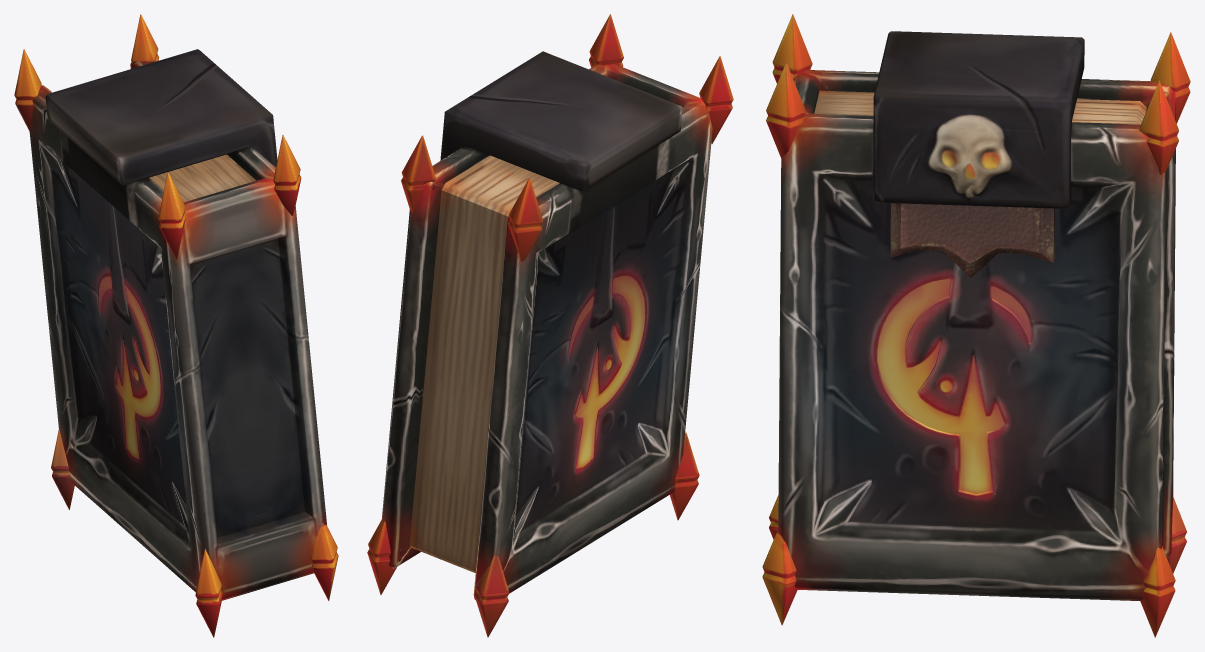
File: sm_armor_dwarf_scortched_tasset_l.gltf
3 renders of one model, left to right at view 1: azimuth 30°, elevation 25°; view 2: azimuth 150°, elevation 25°; view 3: azimuth 270°, elevation 25°, orthographic. The views are drawn at different scales.
Parts seen in each view (by area): view 1: sm_armor_dwarf_scortched_tasset_l; view 2: sm_armor_dwarf_scortched_tasset_l; view 3: sm_armor_dwarf_scortched_tasset_l.
Boxes of the visible parts, <box> form: sm_armor_dwarf_scortched_tasset_l: <box>14,14,338,637</box>; sm_armor_dwarf_scortched_tasset_l: <box>367,14,733,637</box>; sm_armor_dwarf_scortched_tasset_l: <box>762,14,1190,637</box>.
Size of the model in its own units: 0.1469 by 0.3424 by 0.2405.
